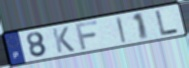1: (132, 11, 150, 42)
8: (26, 32, 49, 58)
F: (74, 19, 100, 51)
I: (115, 15, 128, 45)
K: (51, 26, 76, 55)
L: (154, 9, 180, 36)
